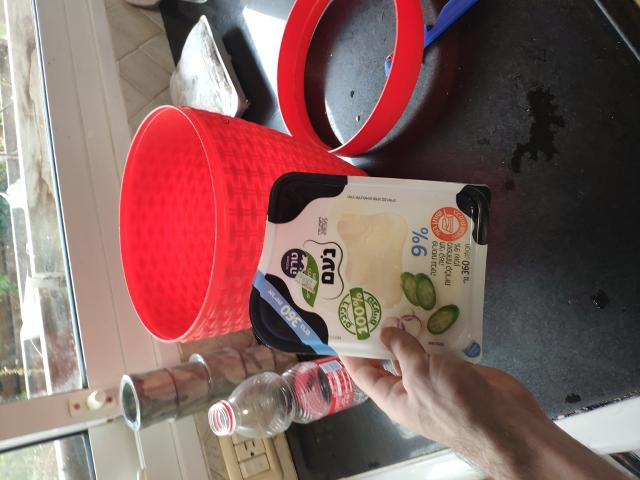cheese: (246, 172, 469, 402)
